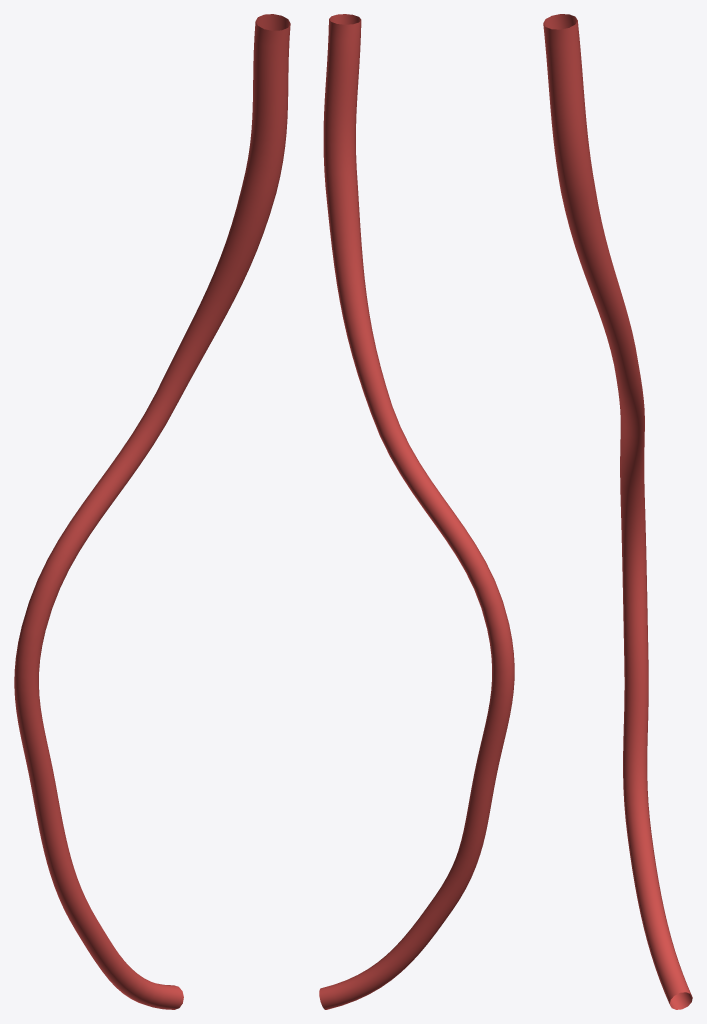
3 views of the same model, side by side, from view 1: azimuth 30°, elevation 25°; view 2: azimuth 150°, elevation 25°; view 3: azimuth 270°, elevation 25° (orthographic). The views are drawn at different scales.
Parts seen in each view (by area): view 1: 右侧眼动脉; view 2: 右侧眼动脉; view 3: 右侧眼动脉.
Boxes of the visible parts, x1,y1,x2,y2 form: 右侧眼动脉: (14,14,290,1009); 右侧眼动脉: (319,14,514,1009); 右侧眼动脉: (543,14,692,1009).
Size of the model in its own units: 0.0114 by 0.0472 by 0.00634.
